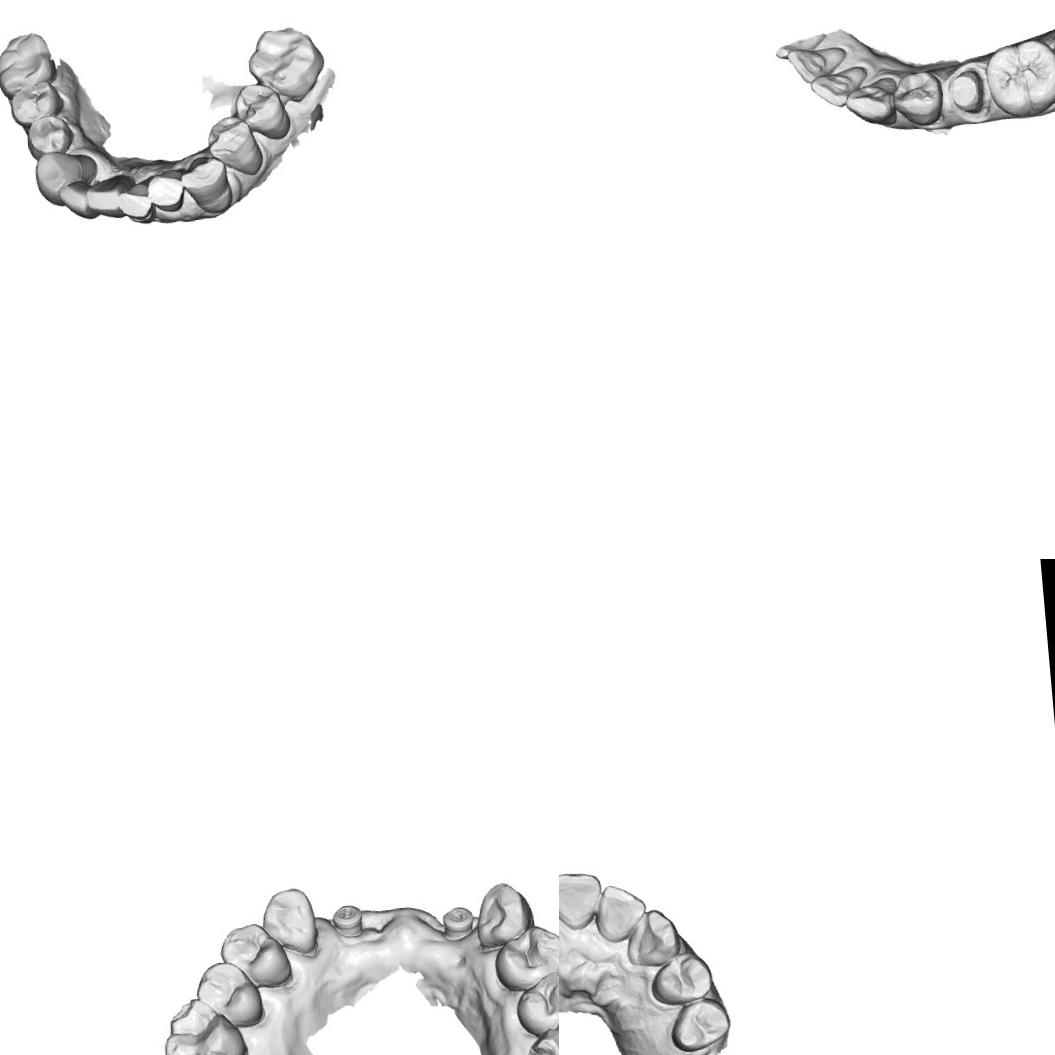canine: (467, 878, 536, 952), (258, 884, 320, 960), (621, 904, 686, 969), (29, 148, 91, 210), (178, 151, 234, 216), (840, 71, 903, 127)
crown: (944, 60, 990, 120)
implant_minus: (438, 902, 475, 940), (330, 898, 362, 937)
incisor: (591, 879, 651, 944), (559, 867, 606, 936), (782, 42, 852, 86), (808, 62, 870, 109), (85, 172, 133, 220), (143, 164, 185, 213), (114, 178, 156, 224), (56, 178, 96, 224)
molar: (243, 20, 328, 107), (982, 34, 1055, 120), (158, 992, 247, 1055), (0, 27, 60, 98)
premolar: (192, 956, 269, 1032), (215, 919, 291, 993), (489, 922, 559, 994), (645, 946, 718, 1008), (665, 994, 733, 1055), (204, 113, 265, 180), (230, 80, 289, 142), (890, 67, 946, 128), (511, 965, 559, 1036), (4, 77, 64, 130), (20, 112, 76, 158)
